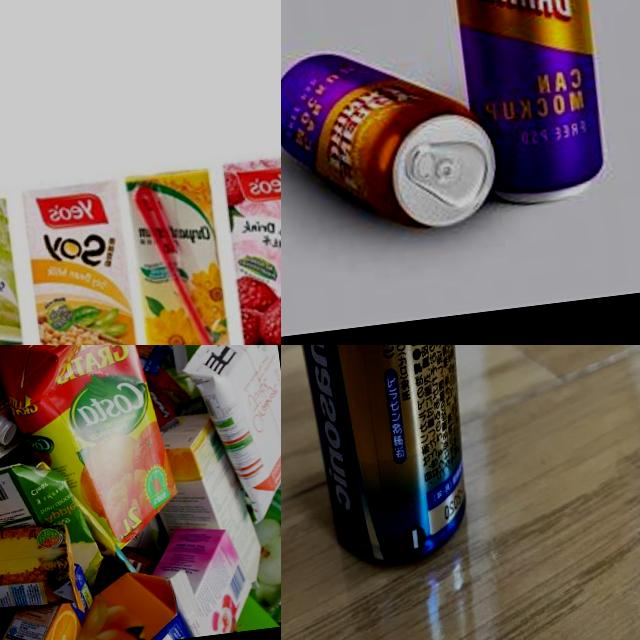aba de lata: (402, 136, 464, 191)
bateria: (281, 345, 493, 577)
caixinha: (0, 345, 186, 571), (170, 345, 281, 531), (16, 173, 136, 345), (126, 164, 234, 345), (60, 563, 211, 640), (223, 153, 281, 345)
lata: (281, 30, 503, 249), (435, 0, 614, 211)
